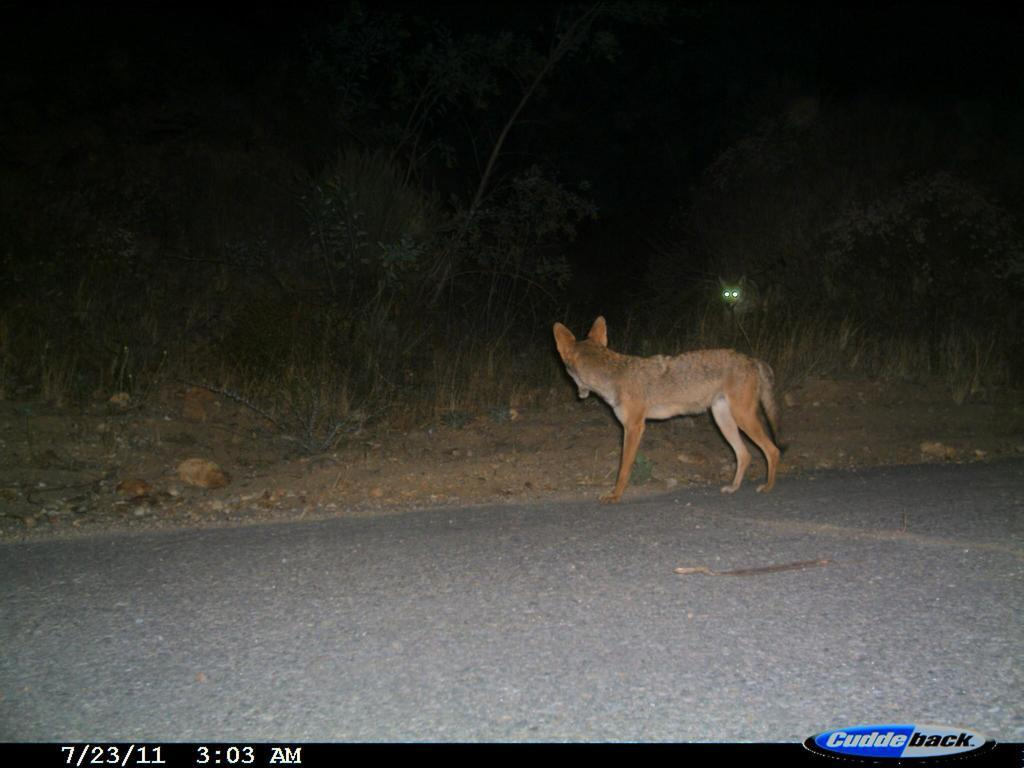coyote: (548, 317, 794, 507), (702, 271, 779, 335)
